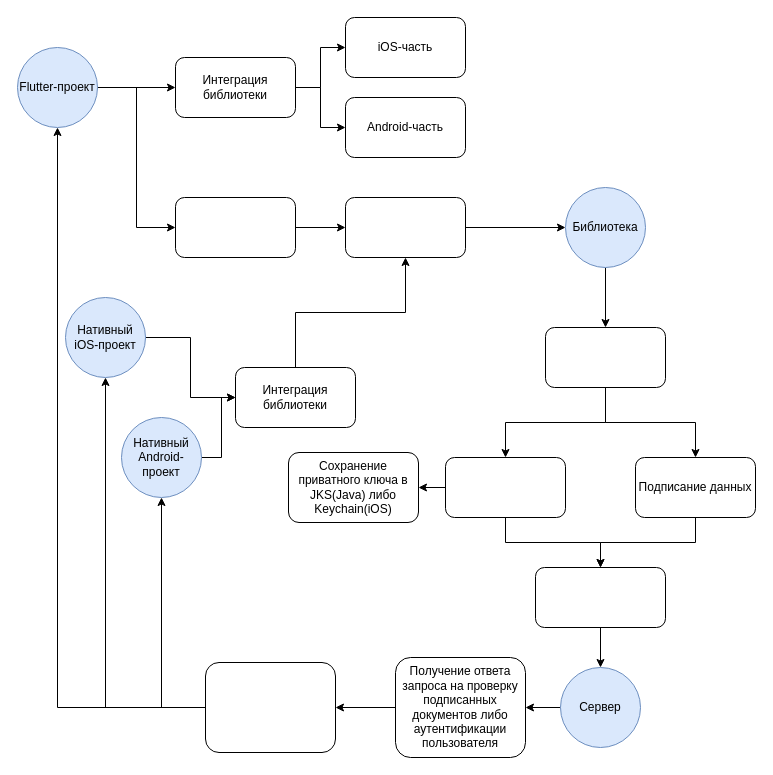
The diagram is 773 pixels wide and 775 high, and some of its shapes have lost their labels. Each missing label, with the centre of its shape:
Генерация ключей: (x=505, y=487)
Класс-обертка "TestGeneralLib": (x=235, y=227)
нативный метод библиотеки "signQrData": (x=405, y=227)
Проверка на наличие и актуальность приватного ключа: (x=605, y=357)
Формирование модели на POST-запрос к серверу на обновление: (x=600, y=597)
Формирования json-модели для возвращения ответа на вызов метода "signQrData": (x=270, y=707)
